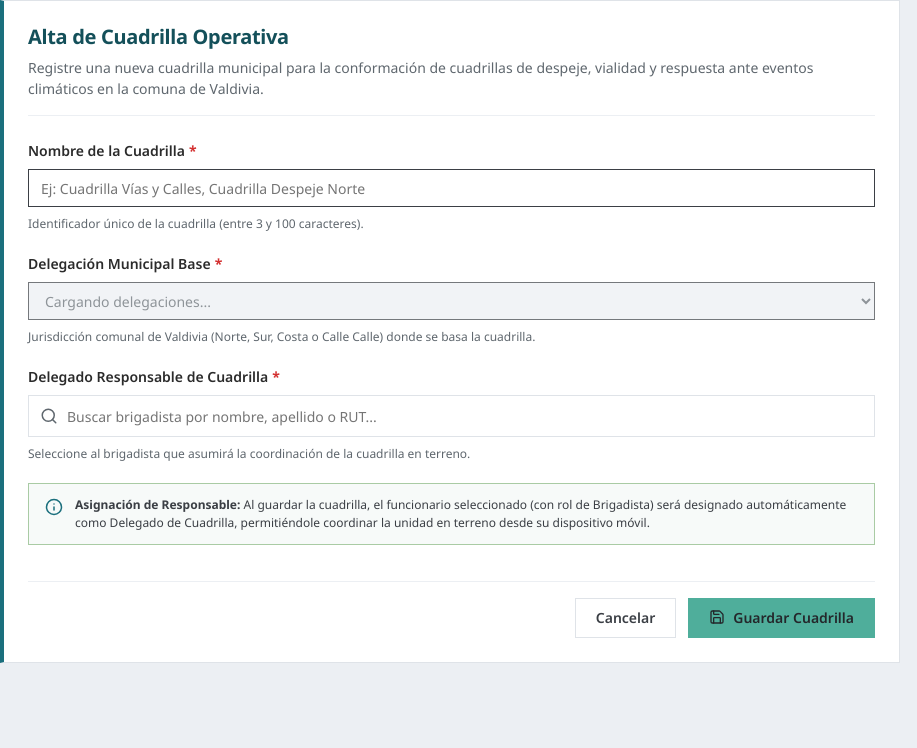
Test: CuadrillaForm (H79) › debe mostrar errores de validación si se envía el formulario vacío
Click the button "Guardar Cuadrilla": (782, 618) 688,598 -> 875,638
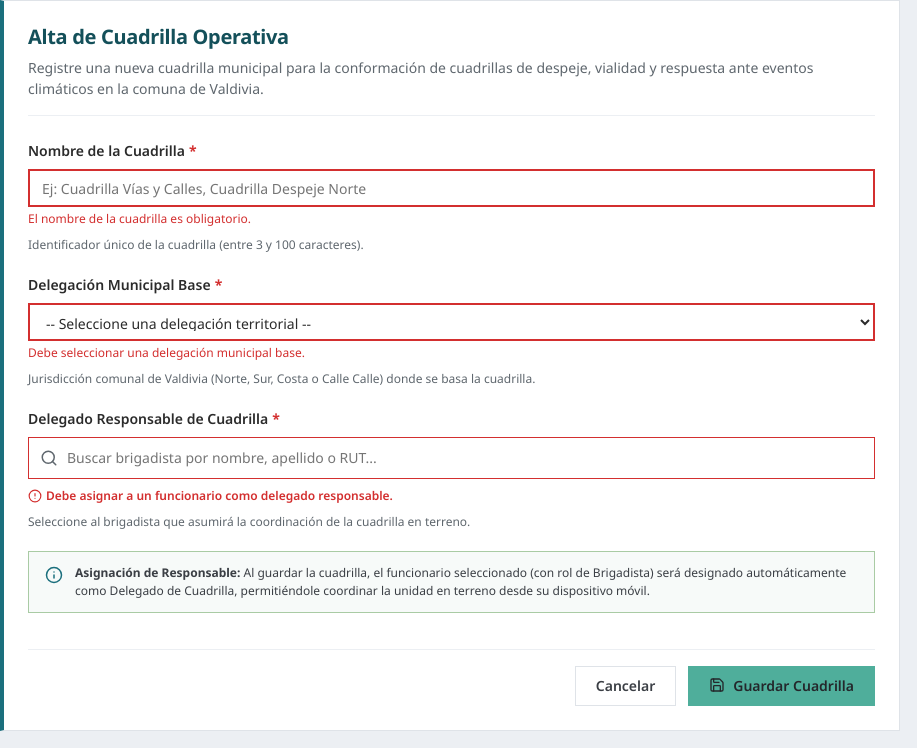
Check: the text "El nombre de la cuadrilla es obligatorio." is shown, box 28,210 -> 251,227
Check: the text "Debe seleccionar una delegación municipal base." is shown, box 28,344 -> 305,361
Check: the text "Debe asignar a un funcionario como delegado responsable." is shown, box 28,487 -> 393,504
